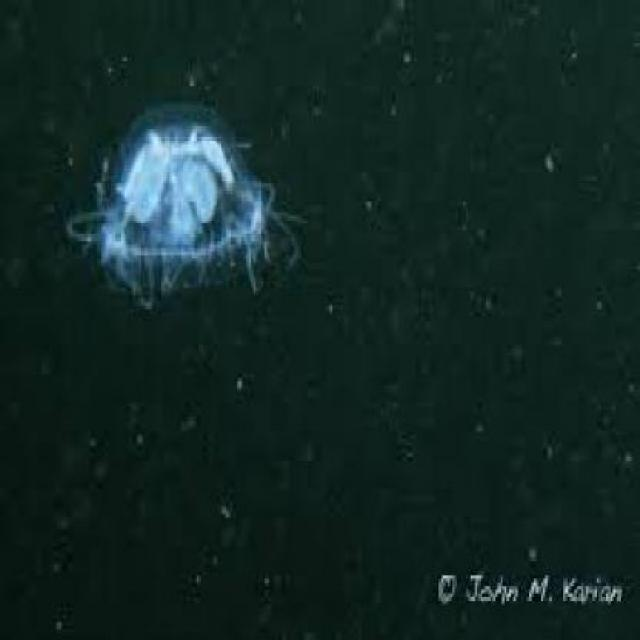Jellyfish: (57, 90, 306, 302)
